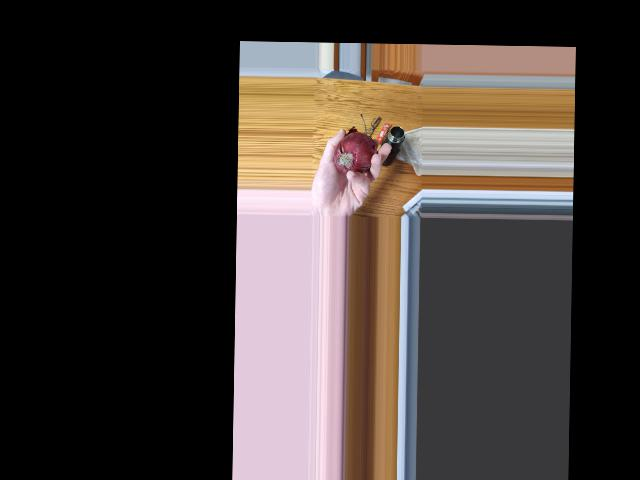onion: (335, 132, 373, 175)
